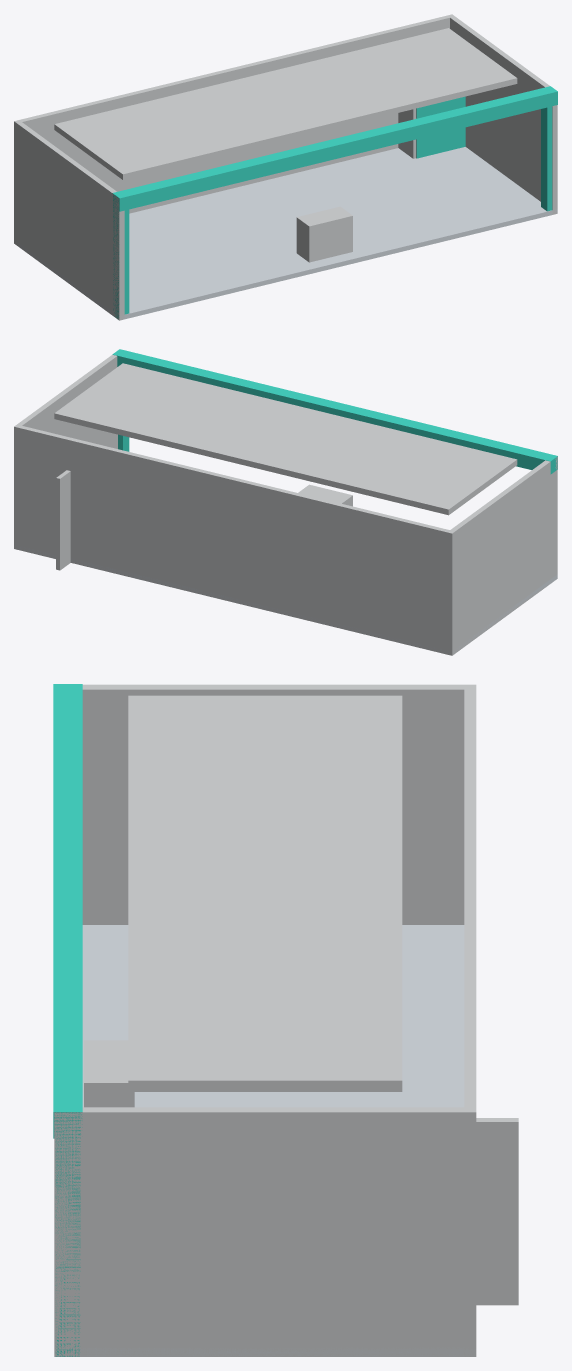
3 views of the same model, one above another, from view 1: azimuth 30°, elevation 25°; view 2: azimuth 150°, elevation 25°; view 3: azimuth 270°, elevation 25° (orthographic). The views are drawn at different scales.
Parts seen in each view (by area): view 1: Exhibition Booth Concept; view 2: Exhibition Booth Concept; view 3: Exhibition Booth Concept.
Part boxes in pixels (<box>): Exhibition Booth Concept: <box>14,14,557,320</box>; Exhibition Booth Concept: <box>14,349,557,655</box>; Exhibition Booth Concept: <box>53,684,518,1356</box>.
Size of the model in its own units: 12 by 3.34 by 5.52.
